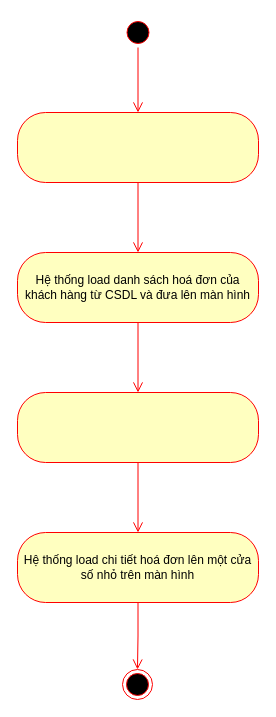
Some shapes in this 276 by 717 pixel diagram are drawn without their labels. The centre of each missing label's shape, as x and y in pixels:
"Khách hàng truy cập vào một hoá đơn thanh toán bất kì" goes at point (137, 427).
"Khách hàng truy cập vào trang Lịch sử mua hàng" goes at point (137, 147).
